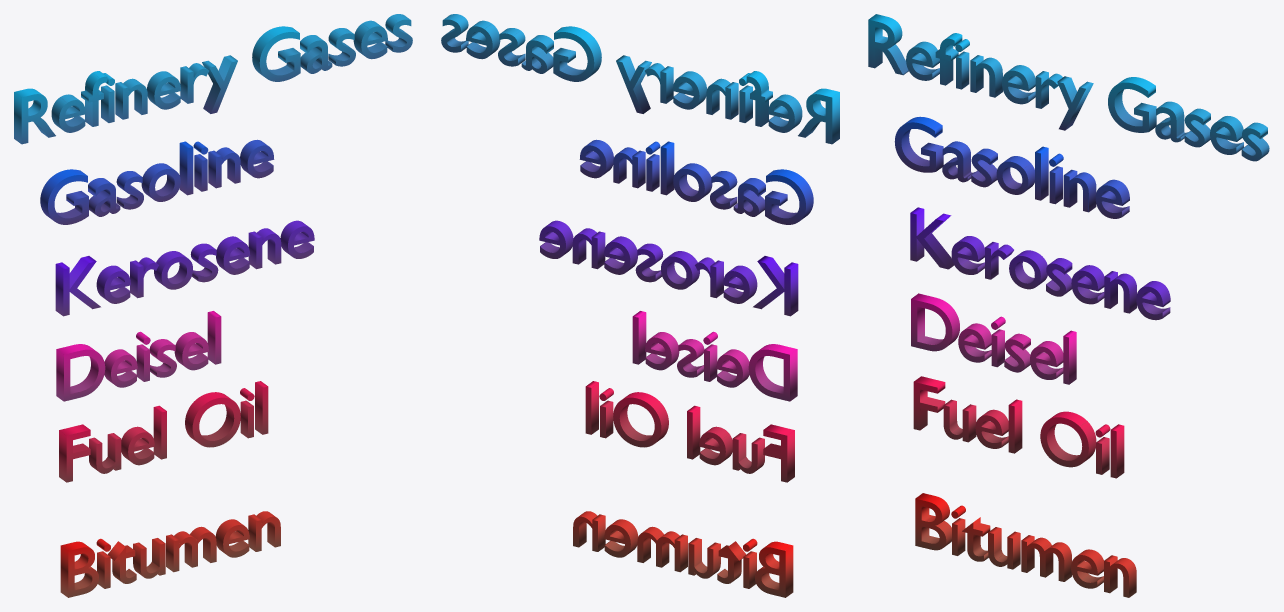
Rendered from LettersV1.glb.
The picture shows the model from 3 angles, left to right: view 1: azimuth 30°, elevation 25°; view 2: azimuth 150°, elevation 25°; view 3: azimuth 330°, elevation 25°; orthographic projection.
Visible parts, largest first — view 1: Text.005, Text.003, Text.004, Text.006, Text.001, Text.002; view 2: Text.005, Text.003, Text.004, Text.006, Text.001, Text.002; view 3: Text.005, Text.003, Text.004, Text.006, Text.001, Text.002.
Part boxes in pixels (x1,y1,x2,y2): Text.005: [14, 14, 412, 144]; Text.003: [55, 220, 314, 316]; Text.004: [40, 139, 274, 224]; Text.006: [60, 511, 280, 597]; Text.001: [59, 381, 268, 482]; Text.002: [56, 311, 221, 401]; Text.005: [441, 14, 839, 144]; Text.003: [539, 220, 798, 316]; Text.004: [579, 139, 813, 224]; Text.006: [573, 511, 793, 597]; Text.001: [585, 381, 794, 482]; Text.002: [632, 311, 797, 401]; Text.005: [868, 14, 1269, 161]; Text.003: [910, 207, 1170, 320]; Text.004: [894, 116, 1129, 218]; Text.006: [915, 493, 1136, 597]; Text.001: [913, 376, 1124, 478]; Text.002: [911, 293, 1076, 384].
Size of the model in its own units: 5.94 by 7.45 by 0.2.
6 materials, 6 textured.
